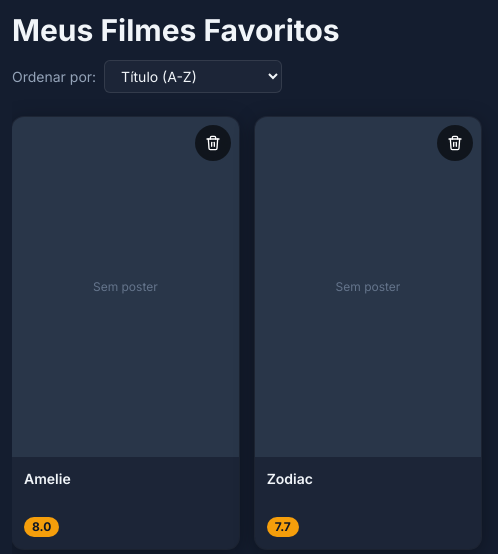
Scenario: FavoritesPage › ordena por titulo (Z-A) quando o select muda
The width and height of the screenshot is (498, 554).
Expected: the heading "Meus Filmes Favoritos" is shown, [12, 12, 340, 48]
Select "Título (Z-A)" in the dropdown labelled "Ordenar por:" at (193, 76), box [104, 60, 282, 93]
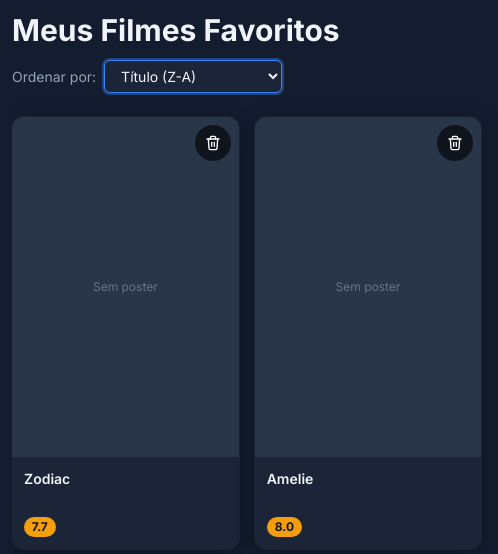
Now the headings read "Zodiac", "Amelie", in this order, box [24, 470, 70, 487]; [267, 470, 313, 487]
